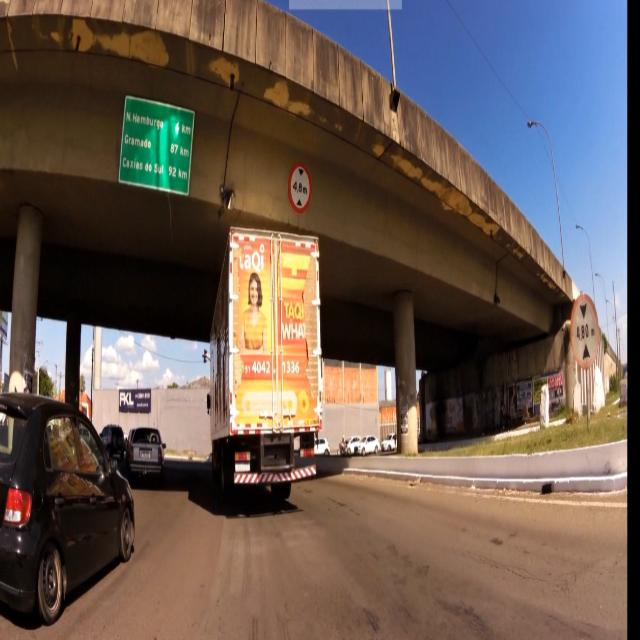I-4: (124, 98, 191, 201)
R-15: (287, 163, 313, 214)
